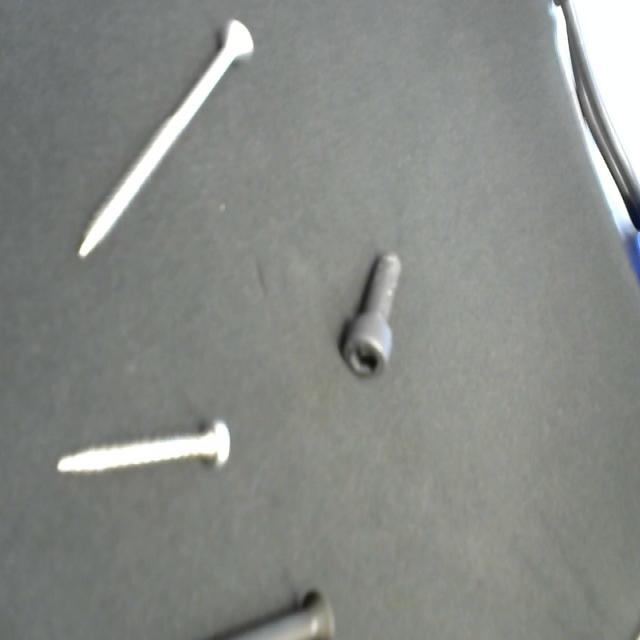FlatHeadSocketScrew: (179, 584, 339, 640)
SheetMetalScrew: (48, 406, 233, 507)
SocketHeadCapScrew: (334, 249, 406, 384)
WoodScrew: (71, 9, 257, 274)
